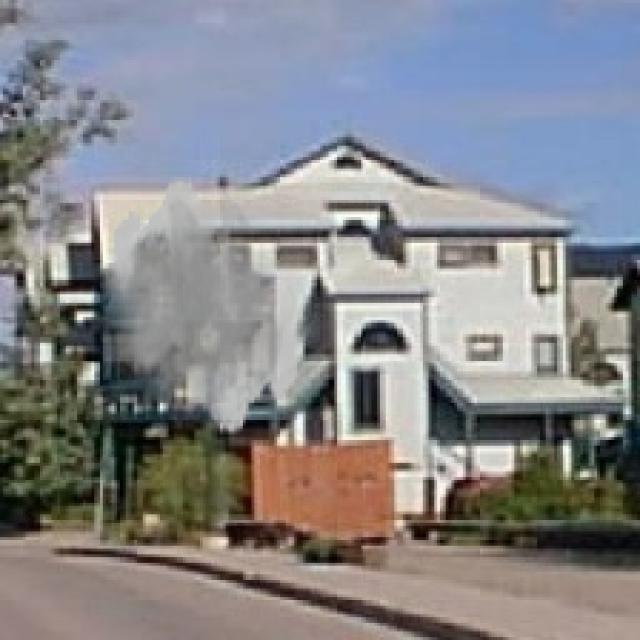Smoke: (100, 174, 312, 437)
